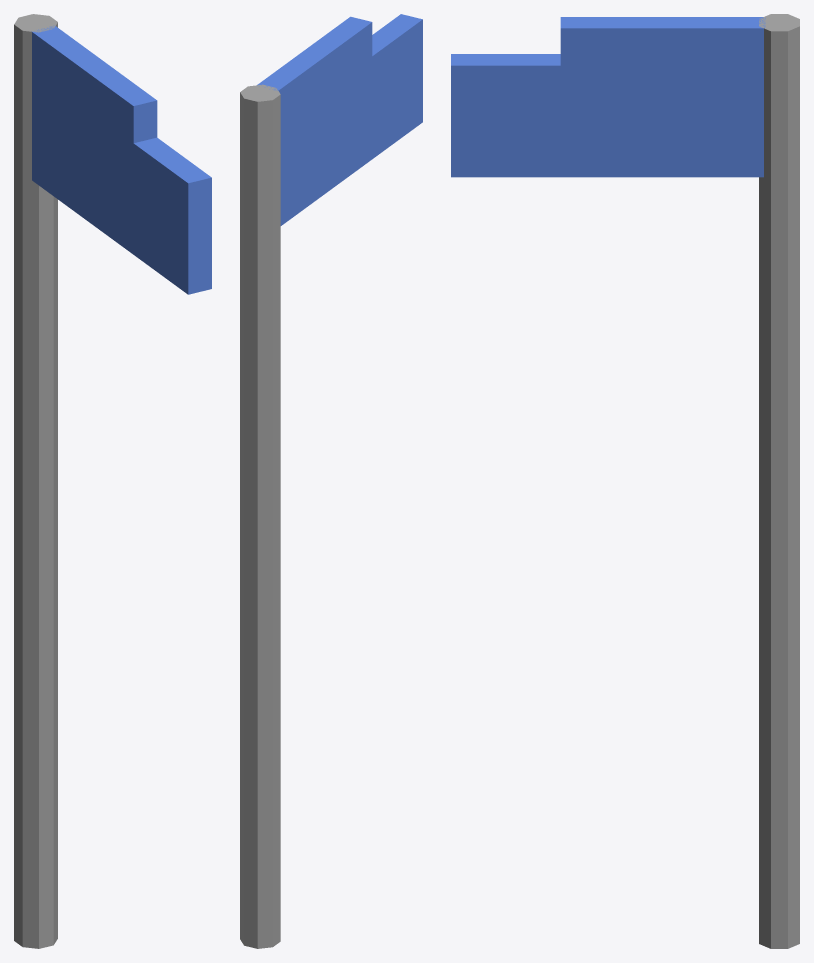
File: flagpole.fbx
3 views of the same model, side by side, from view 1: azimuth 30°, elevation 25°; view 2: azimuth 150°, elevation 25°; view 3: azimuth 270°, elevation 25° (orthographic). The views are drawn at different scales.
Parts seen in each view (by area): view 1: cylinder, cube, cube_1; view 2: cylinder, cube, cube_1; view 3: cylinder, cube, cube_1.
Boxes of the visible parts, x1,y1,x2,y2 form: cylinder: (14, 14, 57, 948); cube: (31, 25, 157, 254); cube_1: (133, 137, 211, 294); cylinder: (240, 84, 280, 948); cube: (257, 16, 372, 225); cube_1: (372, 14, 422, 158); cylinder: (759, 14, 799, 948); cube: (560, 17, 765, 177); cube_1: (451, 54, 560, 177).
Size of the model in its own units: 1.88 by 46.25 by 15.94.
Materials: 1 (1 with a texture image).
